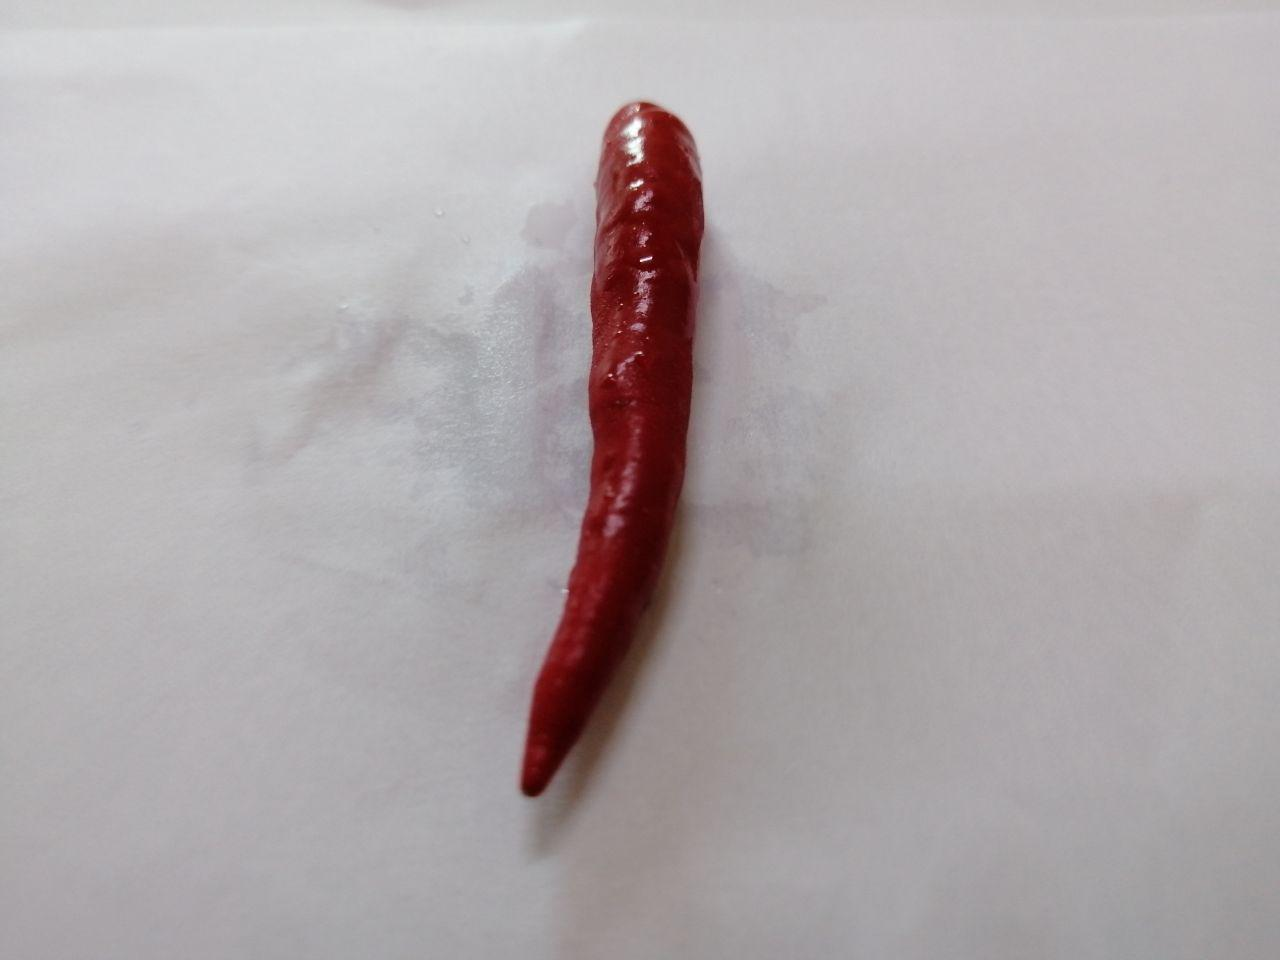lada merah: (494, 86, 716, 828)
